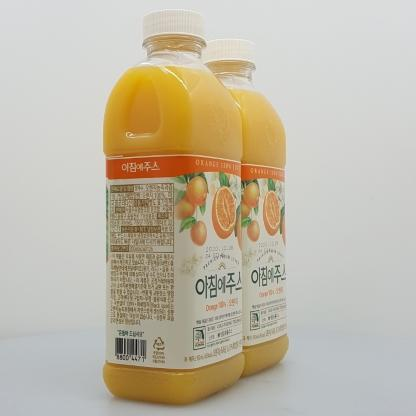----------950ML: (103, 9, 245, 407), (179, 38, 289, 377)
